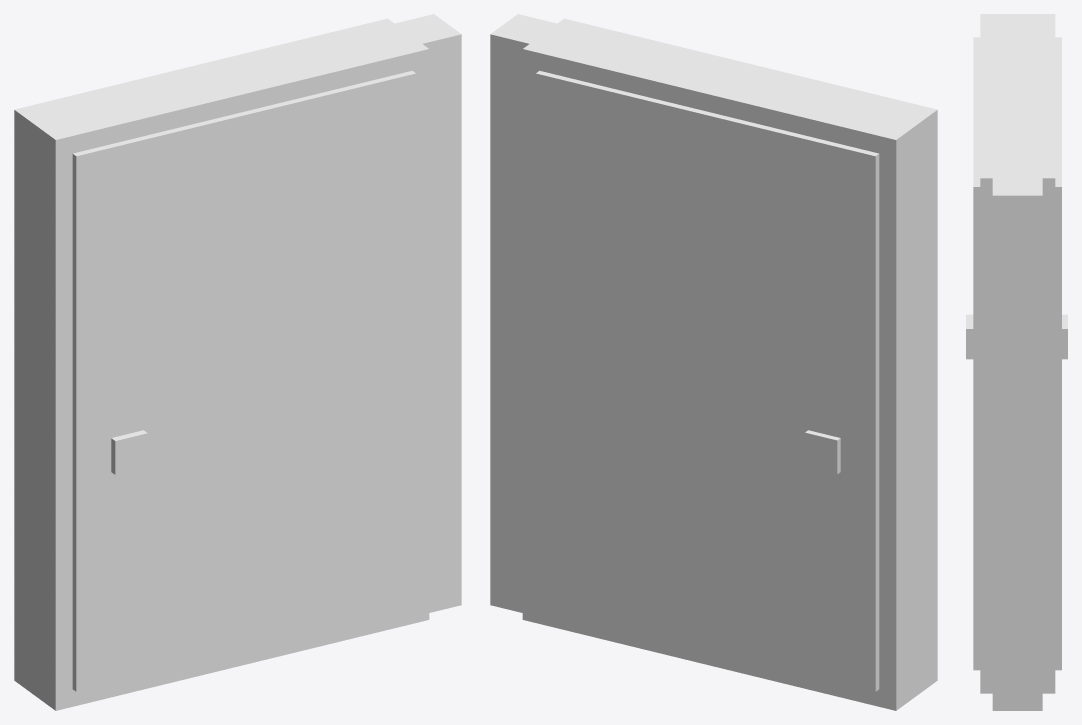
File: door_01.FBX
3 views of the same model, side by side, from view 1: azimuth 30°, elevation 25°; view 2: azimuth 150°, elevation 25°; view 3: azimuth 270°, elevation 25° (orthographic). The views are drawn at different scales.
Bounding box in the file's own units: 55.12 × 72.83 × 13.07.
